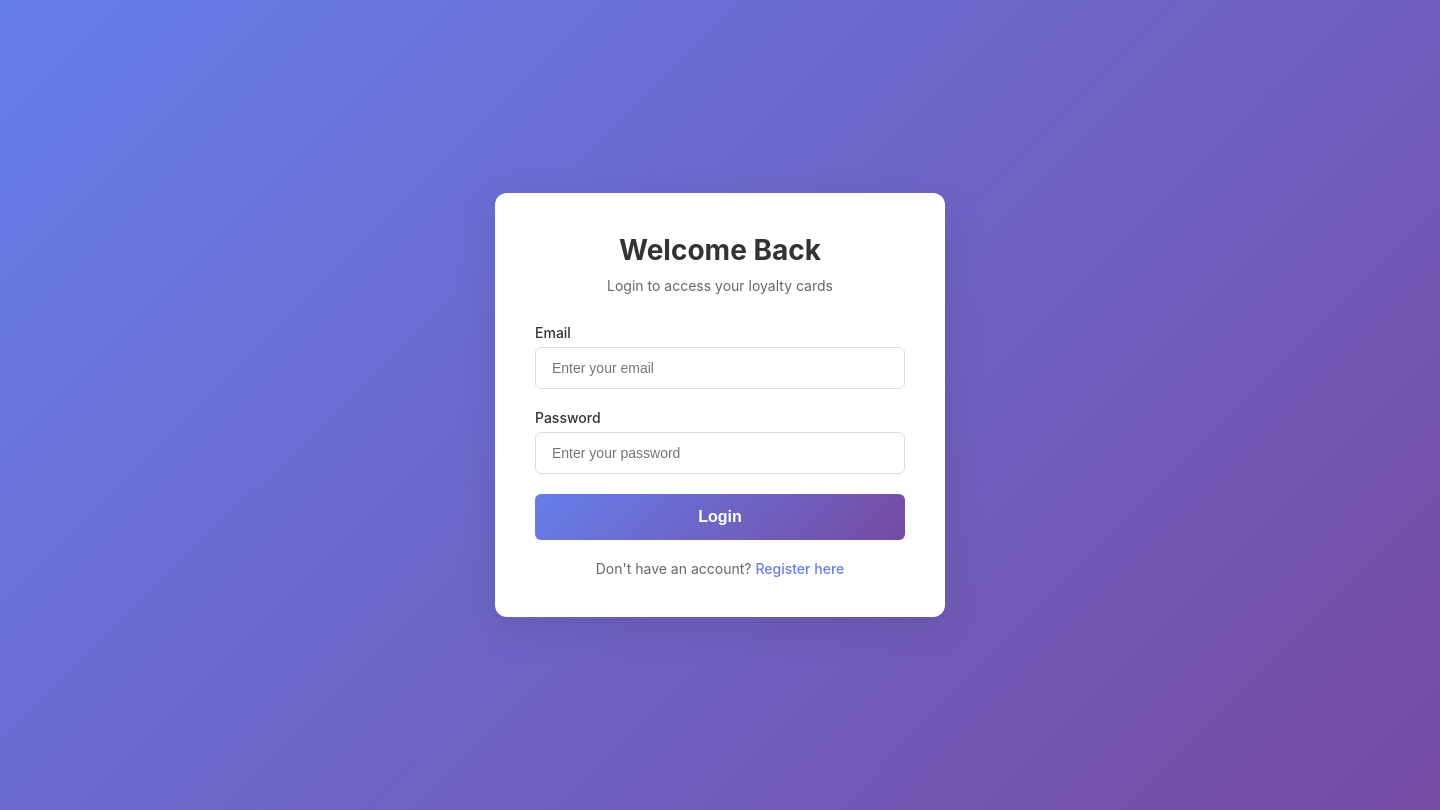
it: LoginView › Form Submission › should display error for invalid credentials (401)
The width and height of the screenshot is (1440, 810).
Type "test@example.com" into the field with id "email" at (720,368), box [535,347,905,389]
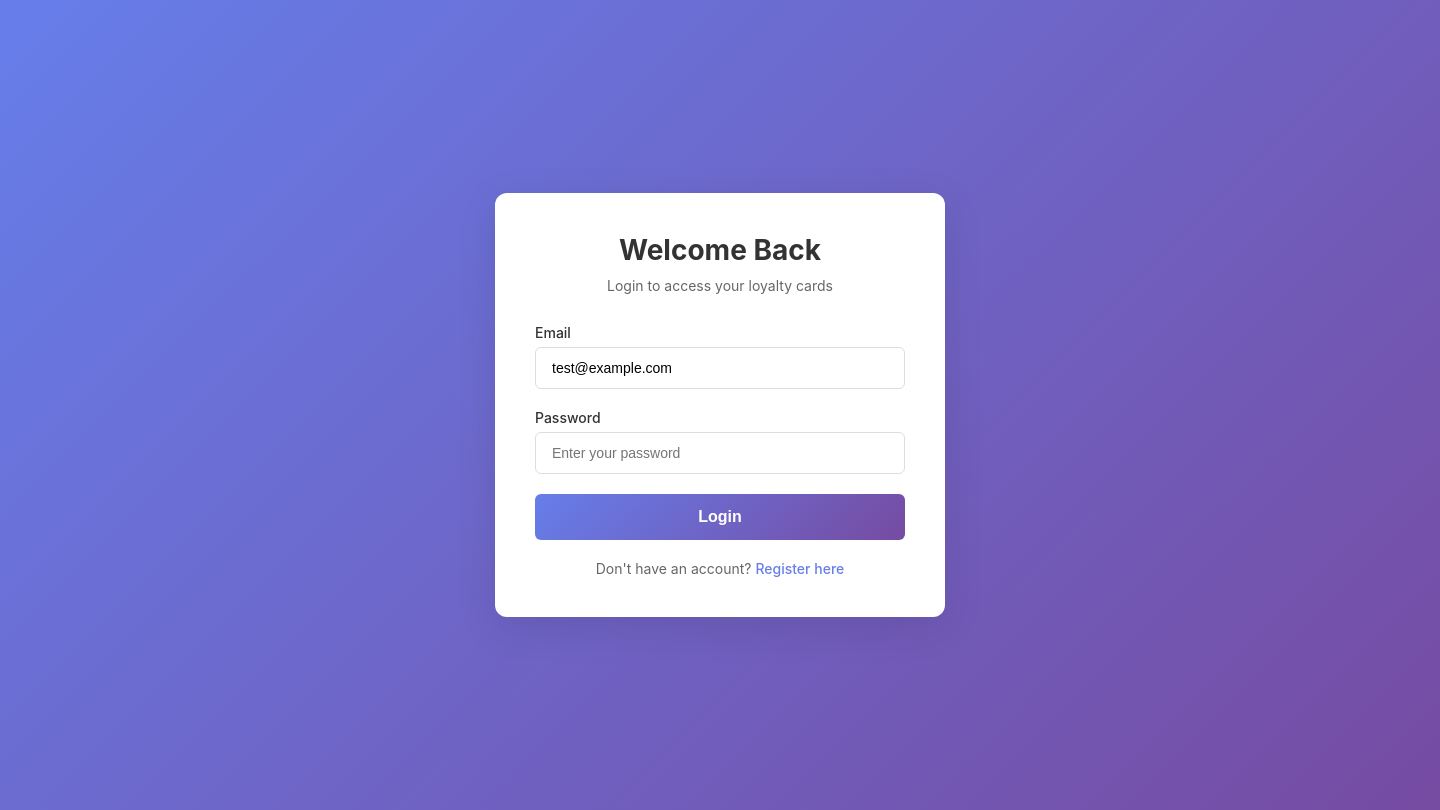
Type "wrongpassword" into the password field labelled "Password" at (720,453), box [535,432,905,474]
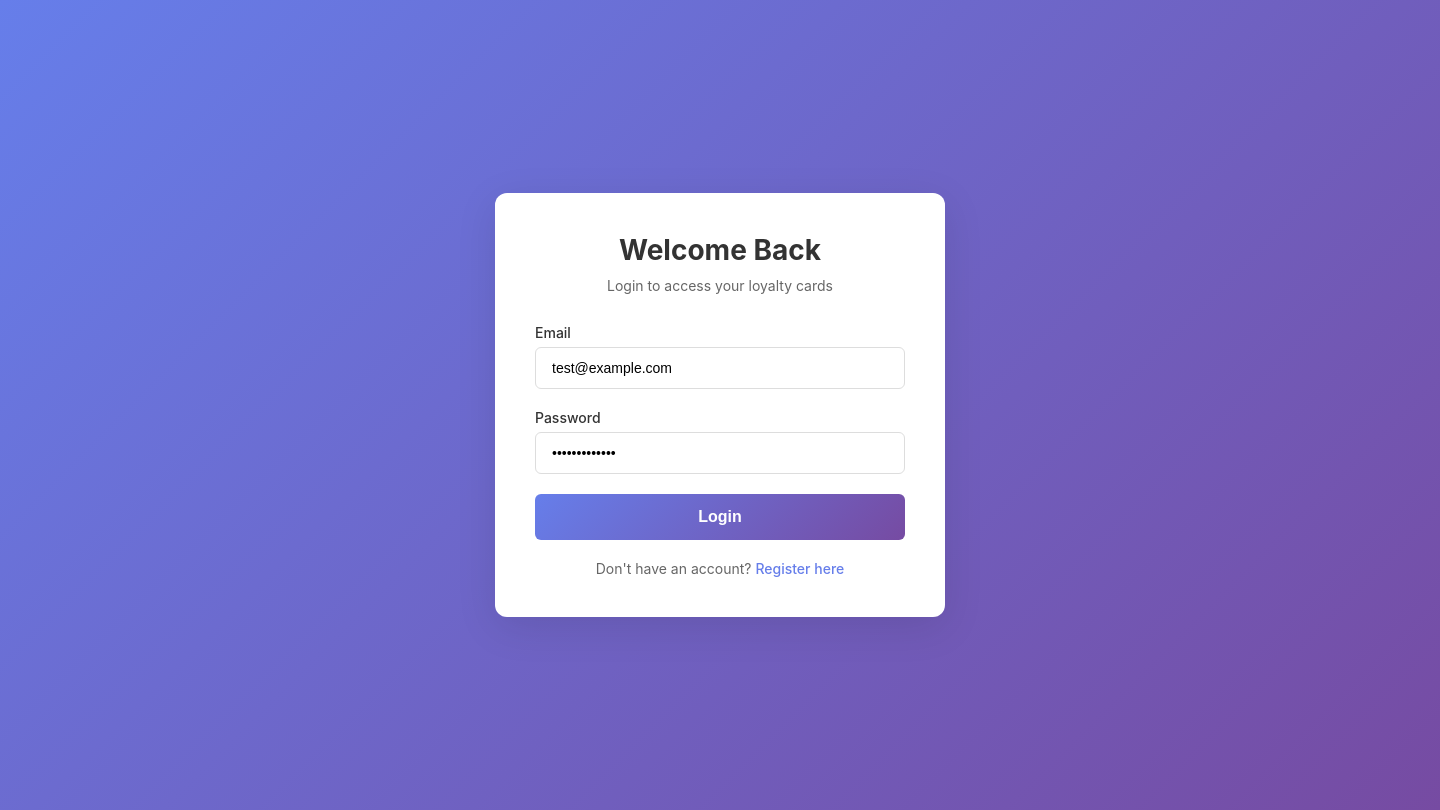
Submit the form, box [535,324,905,540]
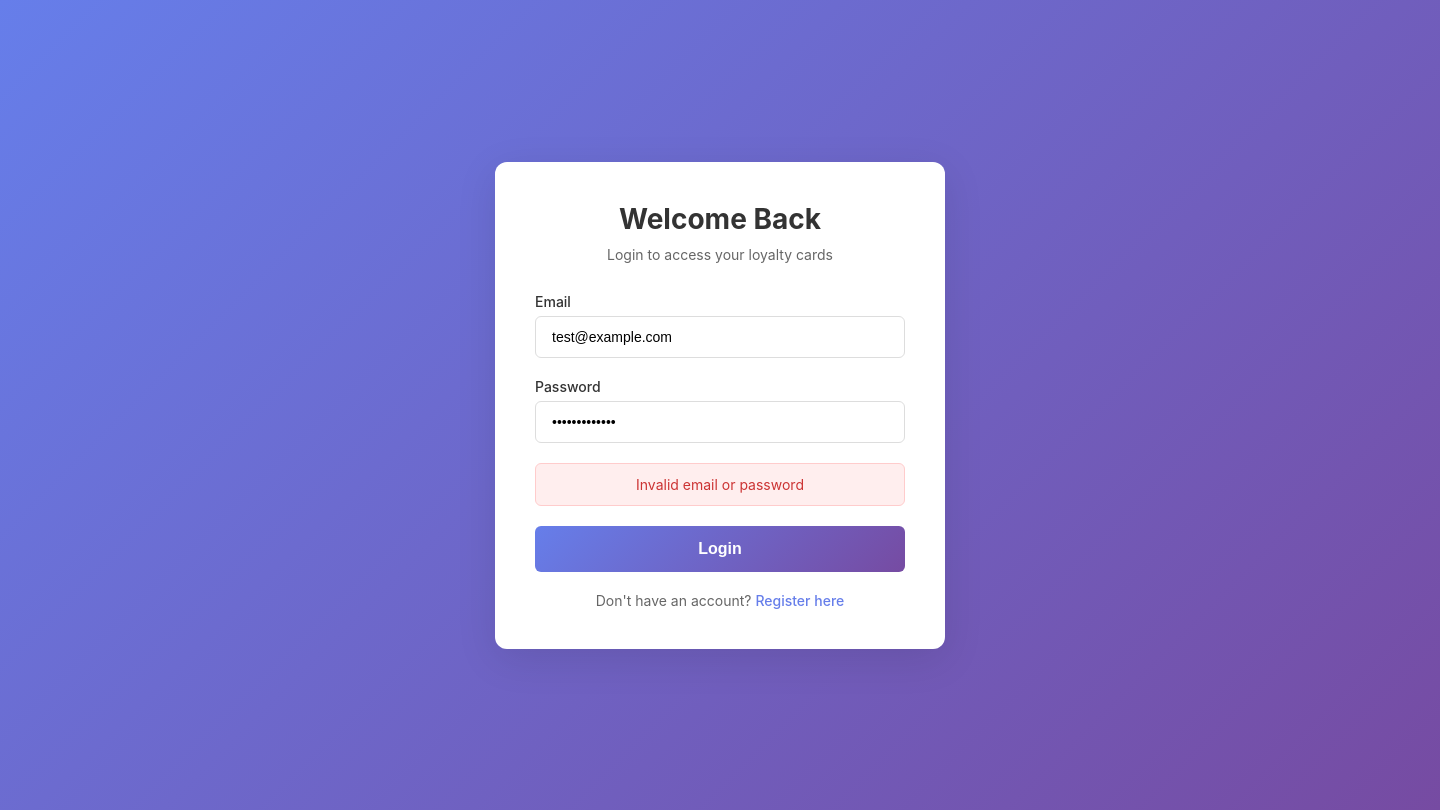
Result: the text "Invalid email or password" is shown at [535,462,905,506]
